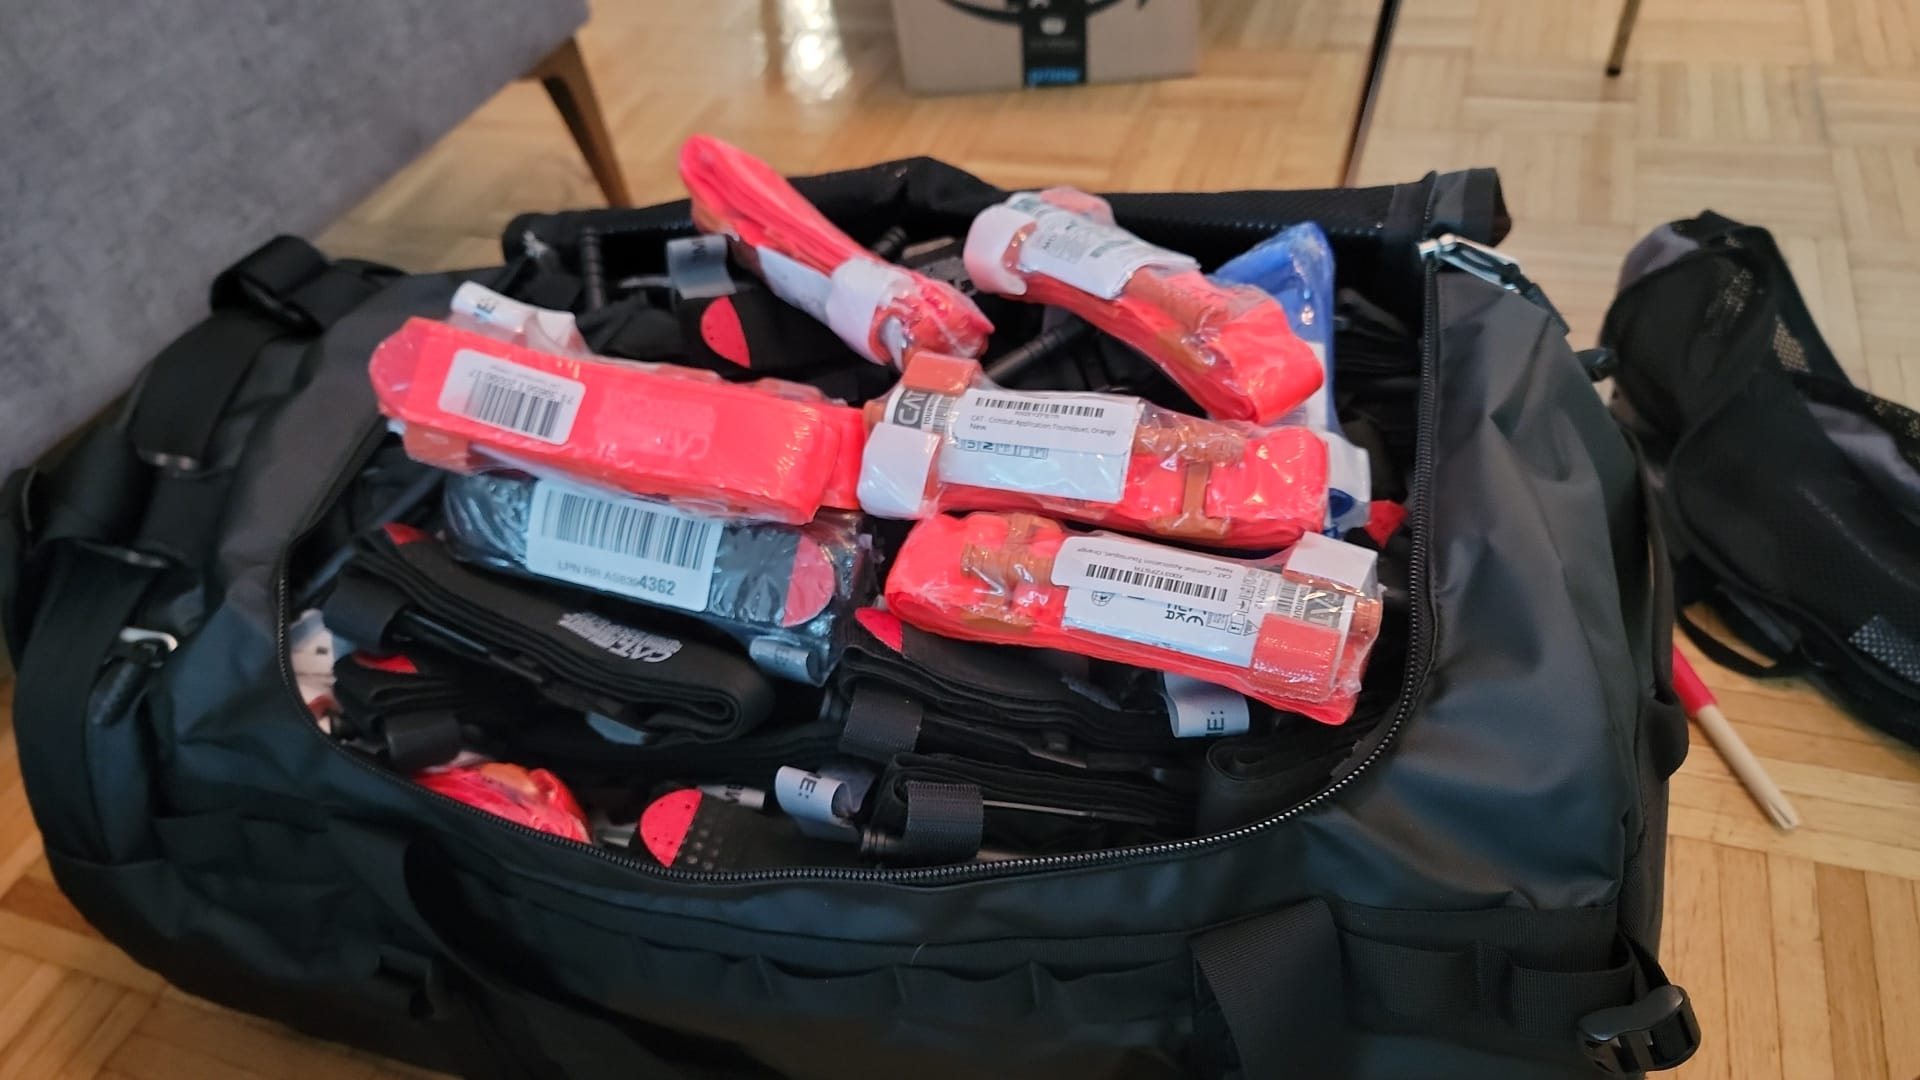other: (939, 112, 1398, 448), (806, 496, 1396, 724), (815, 335, 1378, 574), (323, 313, 864, 555), (680, 84, 1033, 447)
